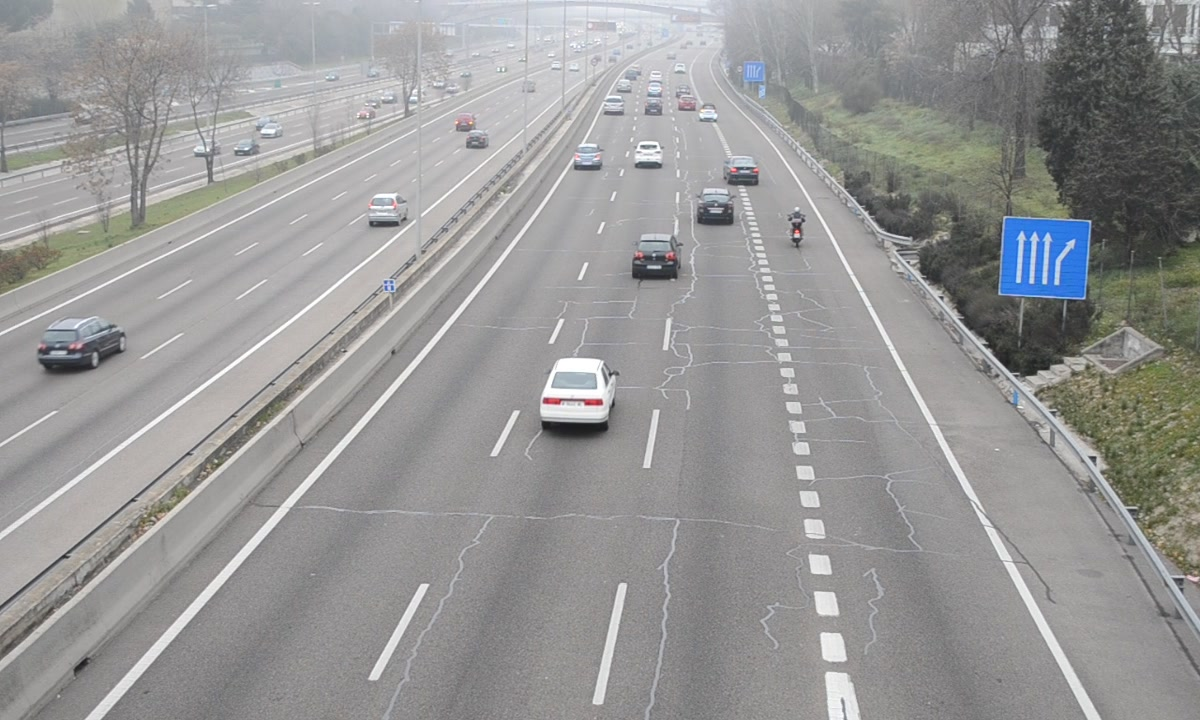car: (541, 356, 619, 425), (632, 234, 682, 277), (695, 188, 734, 225), (725, 155, 760, 187), (631, 141, 665, 167), (573, 143, 603, 171), (603, 92, 625, 116)
motorcycle: (788, 206, 808, 251)
